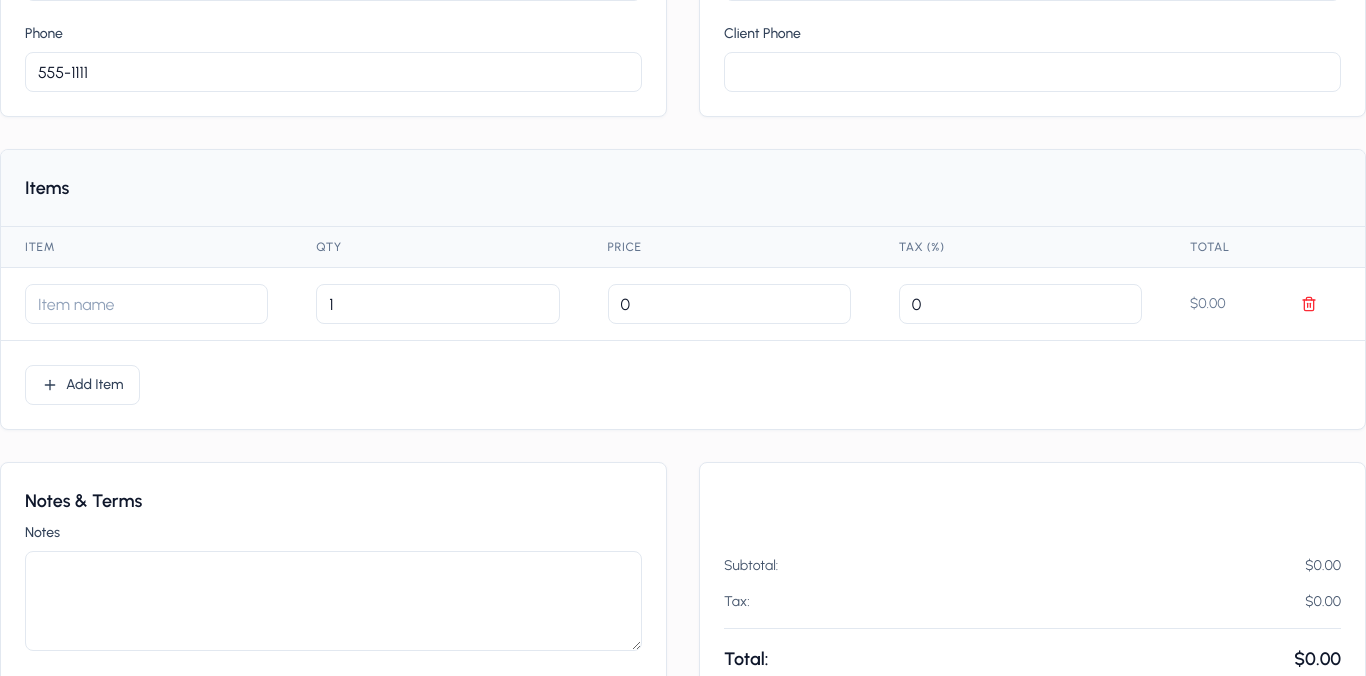
Scenario: Create Invoice updates totals when qty, price, and tax change
This screenshot has width=1366, height=676.
(page scrolled)
Type "2" into the 1st number field with placeholder "1". click: (438, 304)
box: [316,284,560,324]
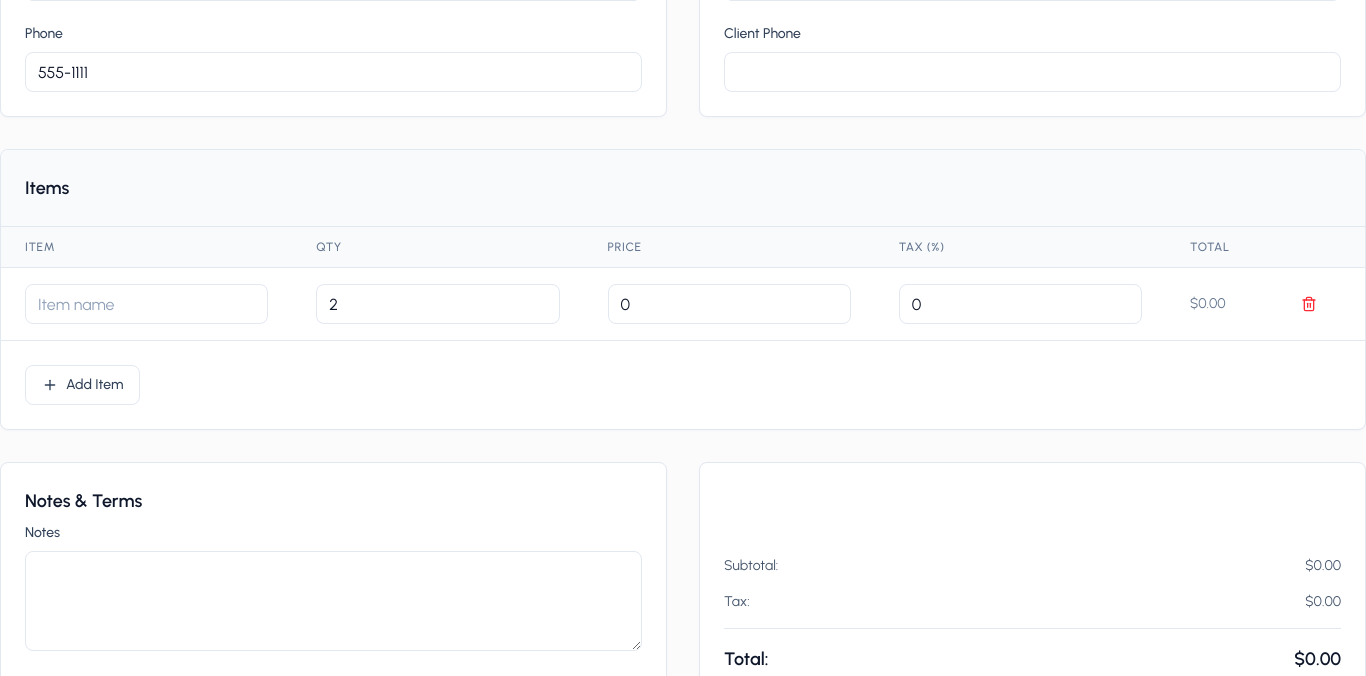
Replace the text in the 2nd number field with placeholder "0.00" with "100". click: (729, 304)
box: [608,284,851,324]
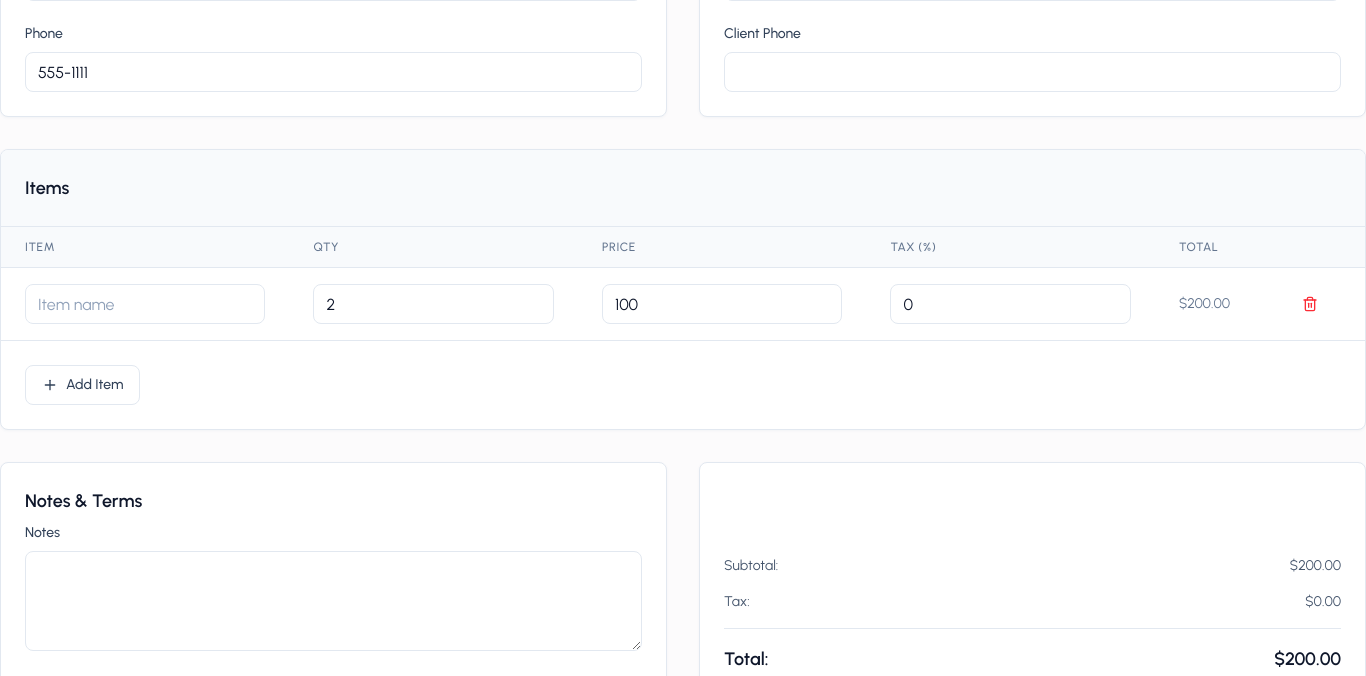
Type "10" into the 3rd number field with placeholder "0". click: (1011, 304)
box: [890,284,1131,324]
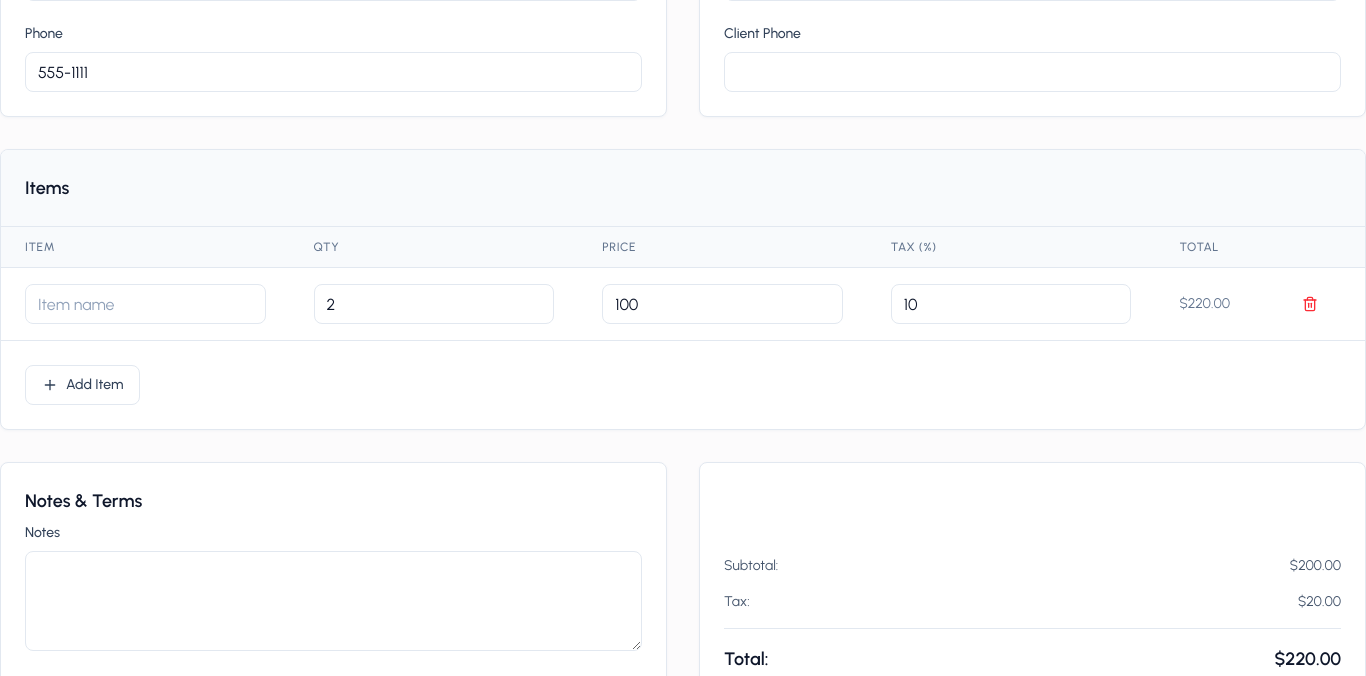
Result: the text "$200.00" is shown at [1290,556,1341,576]
Result: the text "$20.00" is shown at [1298,592,1341,612]
Result: the text "$220.00" is shown at [1155,268,1266,340]
